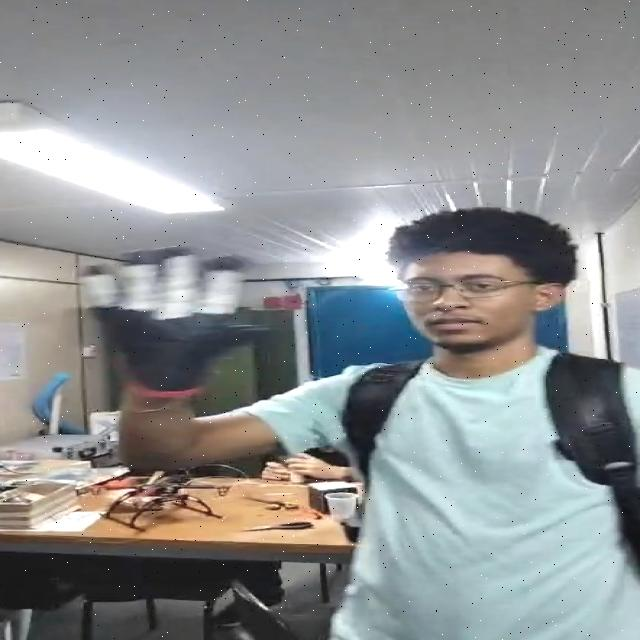Gloves: (76, 248, 290, 406)
